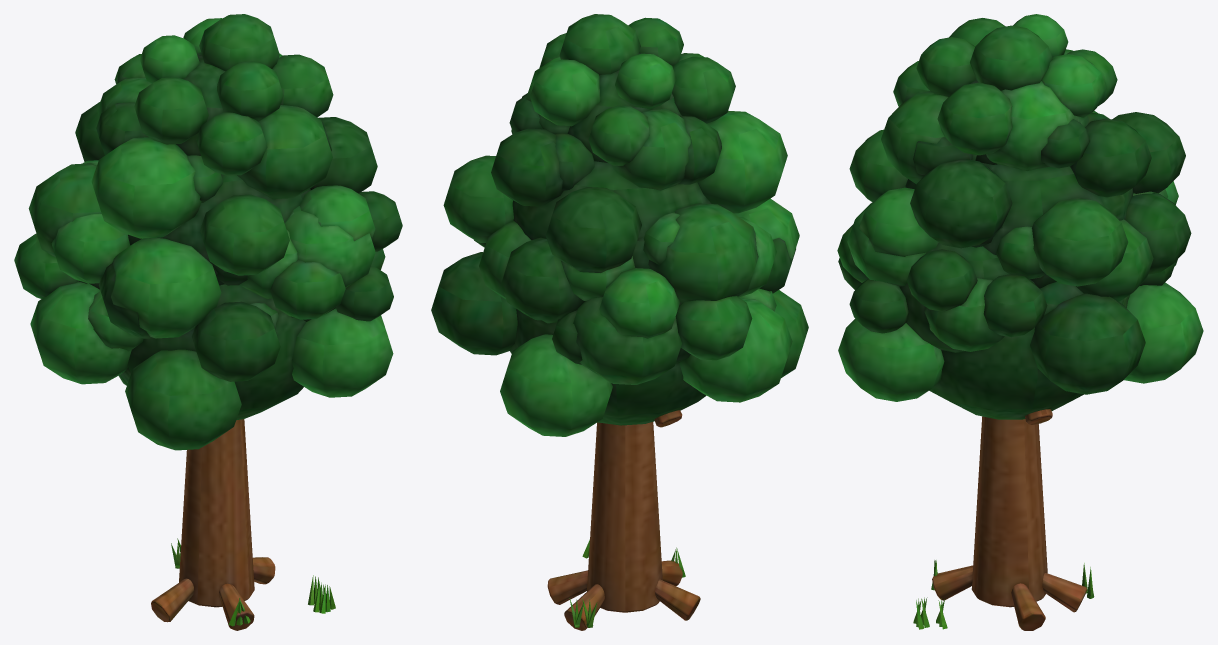
The model's file is brazil_nut_tree.glb.
3 renders of one model, left to right at view 1: azimuth 30°, elevation 25°; view 2: azimuth 150°, elevation 25°; view 3: azimuth 270°, elevation 25°, orthographic.
Visible parts, largest first — view 1: crown, brazil_nut_tree; view 2: crown, brazil_nut_tree; view 3: crown, brazil_nut_tree.
Boxes of the visible parts, box(x1,y1,x2,y2) form: crown: box(14, 14, 402, 450); brazil_nut_tree: box(151, 419, 335, 630); crown: box(431, 14, 808, 436); brazil_nut_tree: box(547, 410, 700, 630); crown: box(837, 14, 1203, 419); brazil_nut_tree: box(913, 409, 1094, 630).
Bounding box in the file's own units: 1.09 × 1.88 × 1.07.
Materials: 1 (1 with a texture image).
